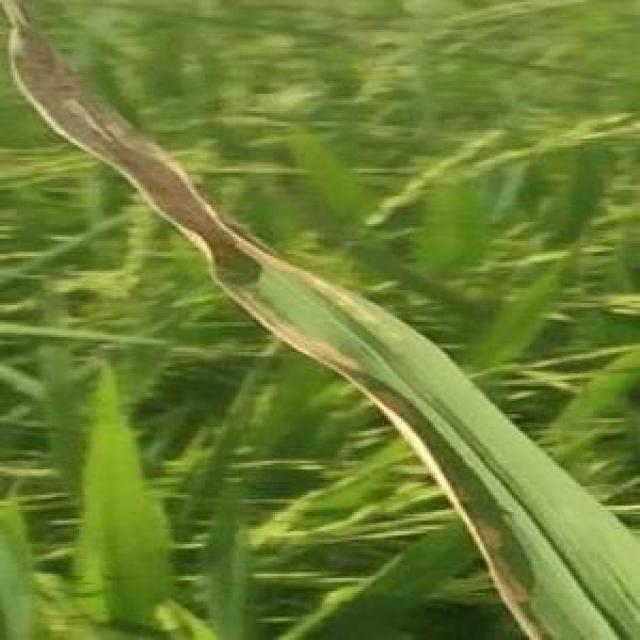Bacterial_Blight: (0, 0, 358, 379), (361, 381, 542, 640)
